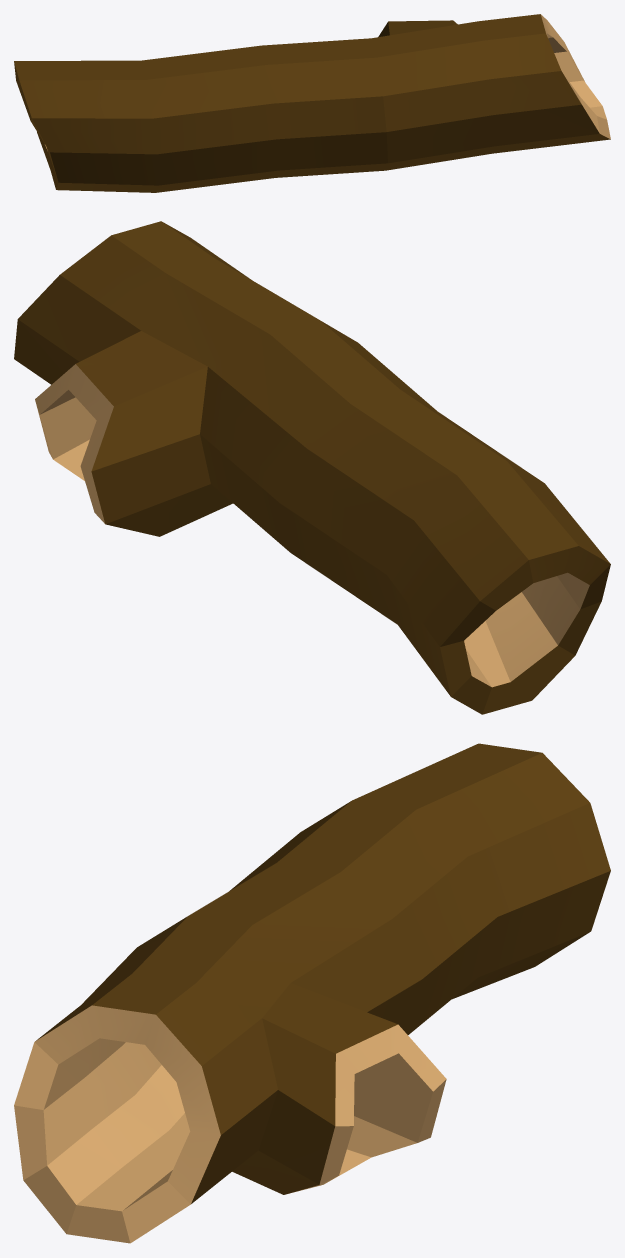
Rendered from trunk.glb.
The picture shows the model from 3 angles, top to bottom: view 1: azimuth 30°, elevation 25°; view 2: azimuth 150°, elevation 25°; view 3: azimuth 270°, elevation 25°; orthographic projection. The views are drawn at different scales.
Visible parts, largest first — view 1: log; view 2: log; view 3: log.
Boxes of the visible parts, x1,y1,x2,y2 form: log: (14, 14, 610, 192); log: (14, 221, 610, 714); log: (14, 743, 610, 1243).
Size of the model in its own units: 7.39 by 2.24 by 4.91.
